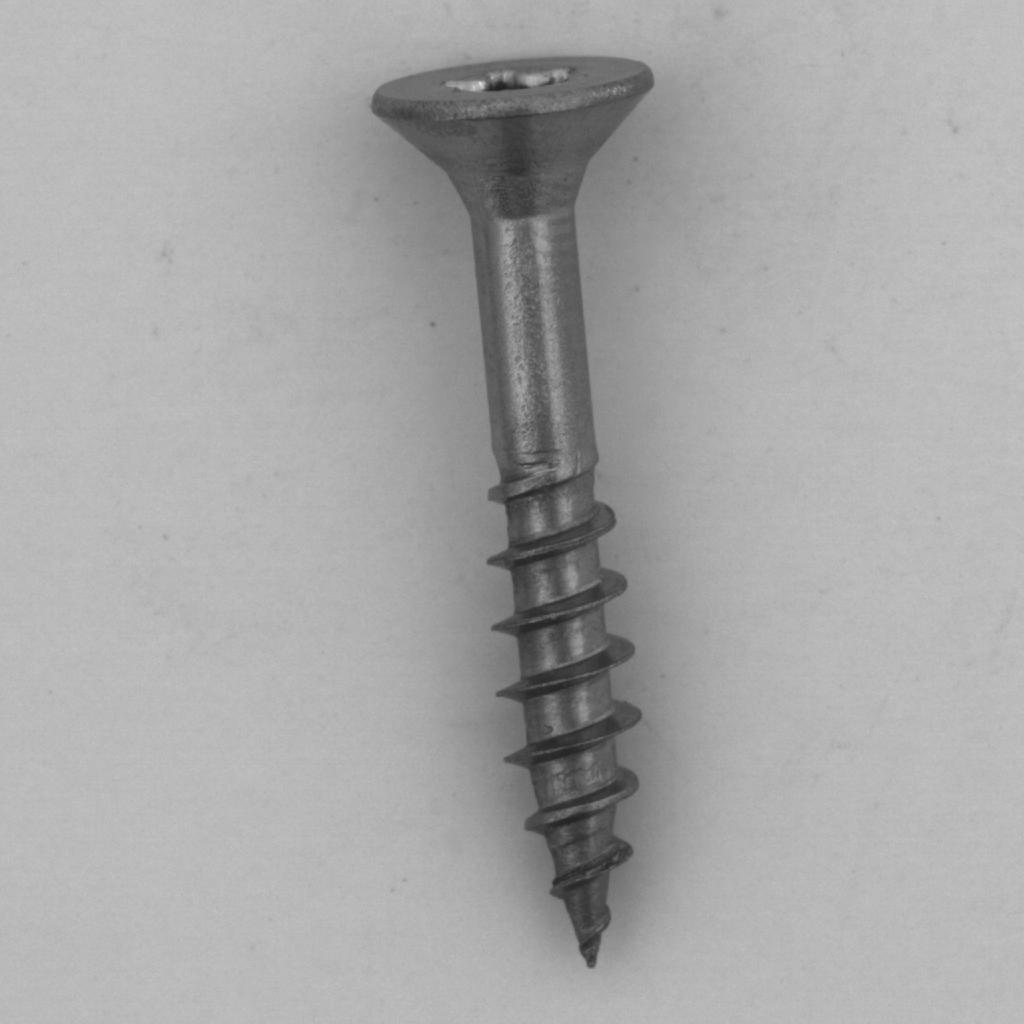good: (356, 47, 685, 986)
